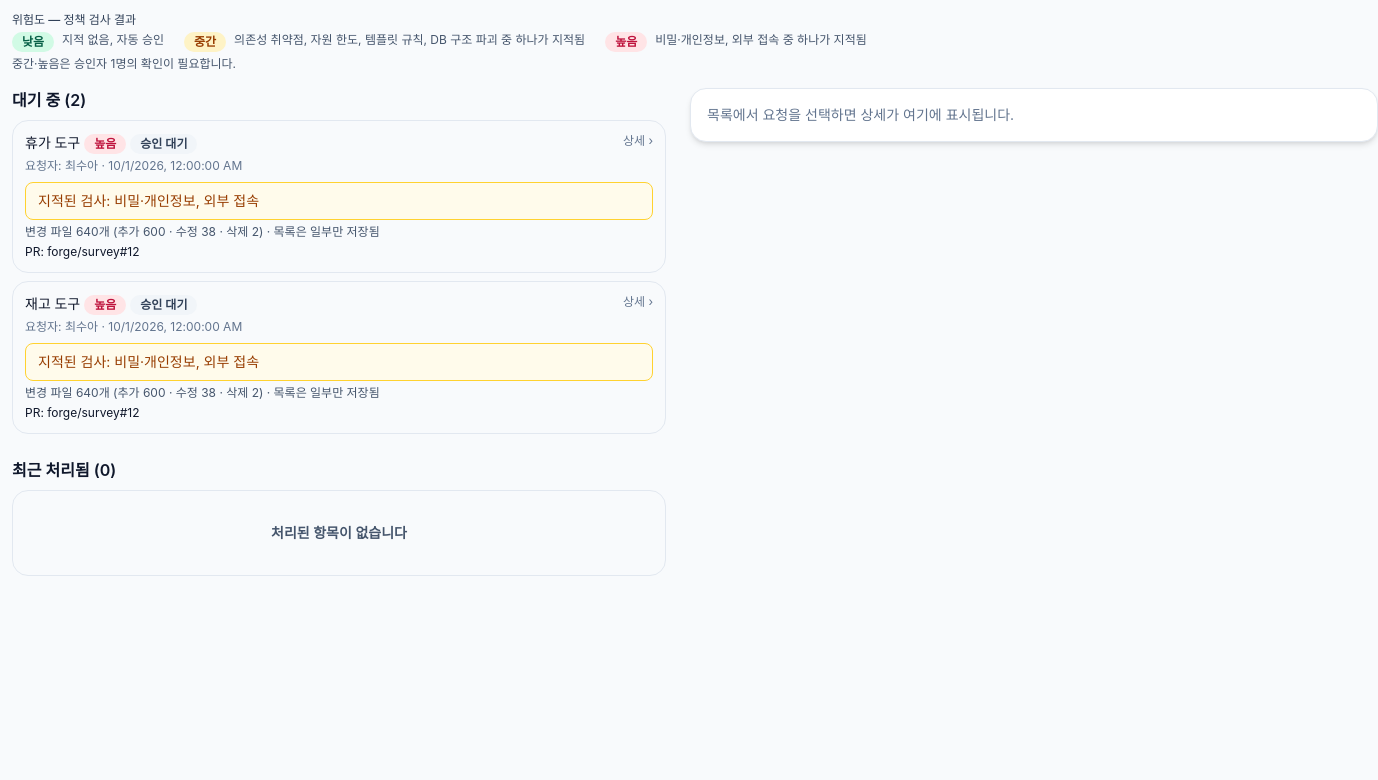
Test: the tabs › switches by click and mounts only the chosen panel
Click the list item with aria-label "휴가 도구 요청 상세 보기" at (339, 196), box x1=12 y1=120 x2=666 y2=273
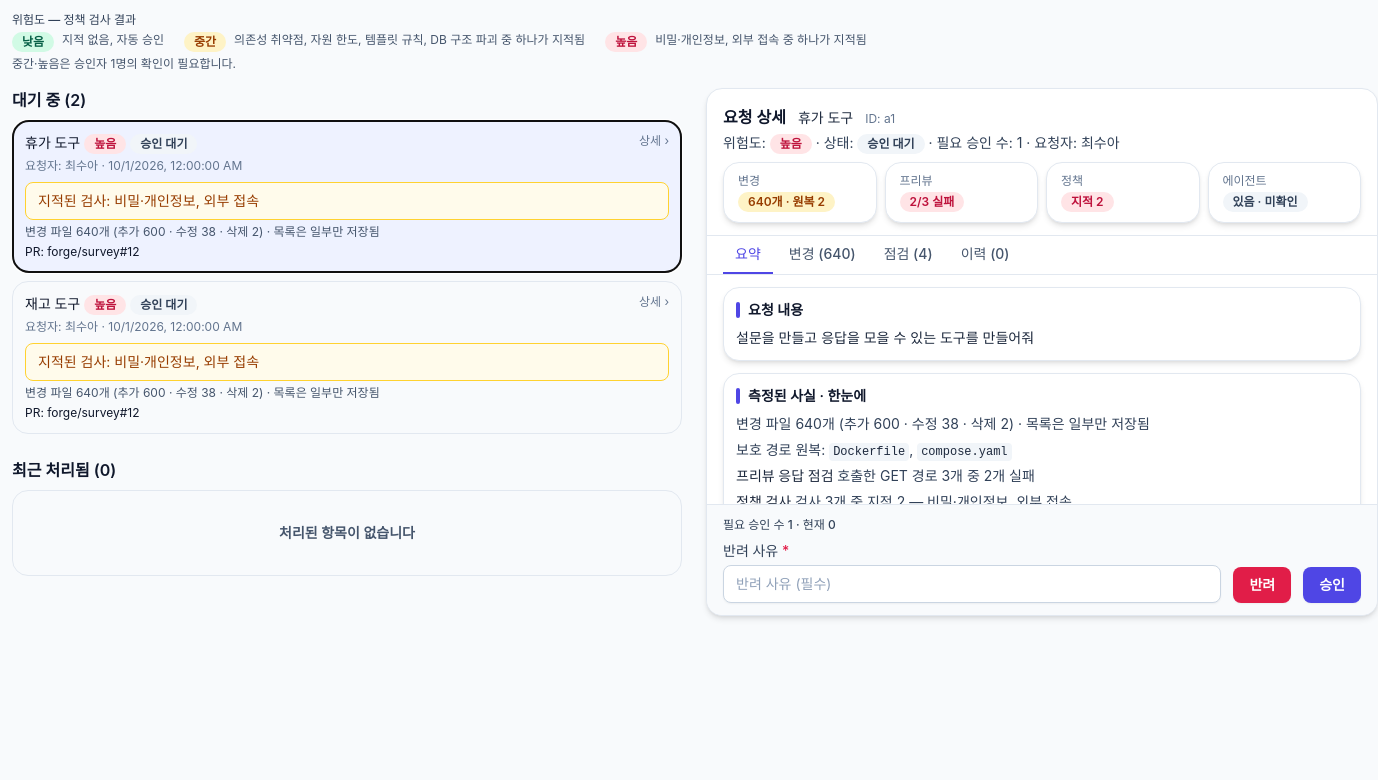
Click the tab "변경 (640)" at (822, 255), box x1=777 y1=236 x2=868 y2=274
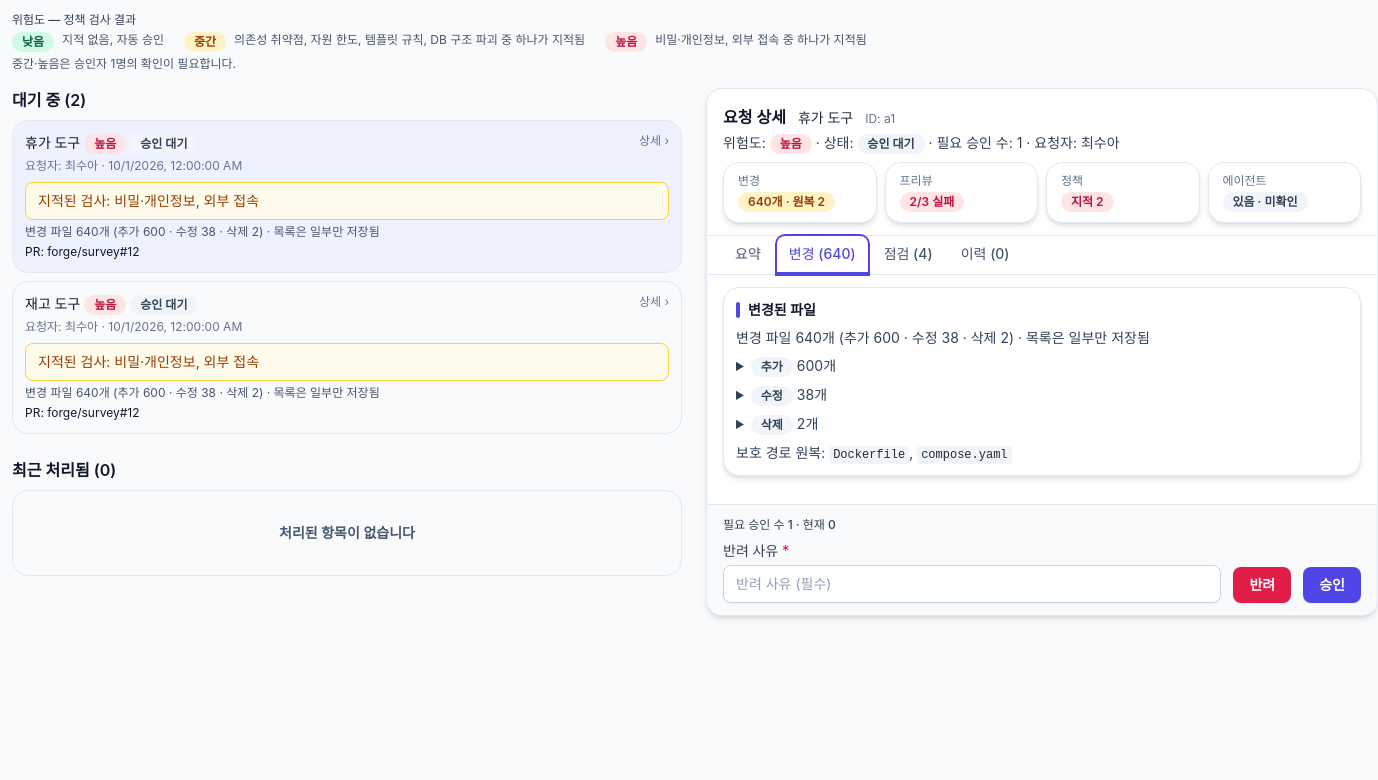
Now the number of panels is 1, box x1=723 y1=287 x2=1361 y2=476
Now the heading "변경된 파일" is shown, box x1=736 y1=301 x2=816 y2=318
Now the heading "요청 내용" is gone
Click the tab "이력 (0)" at (985, 255), box x1=949 y1=236 x2=1022 y2=274
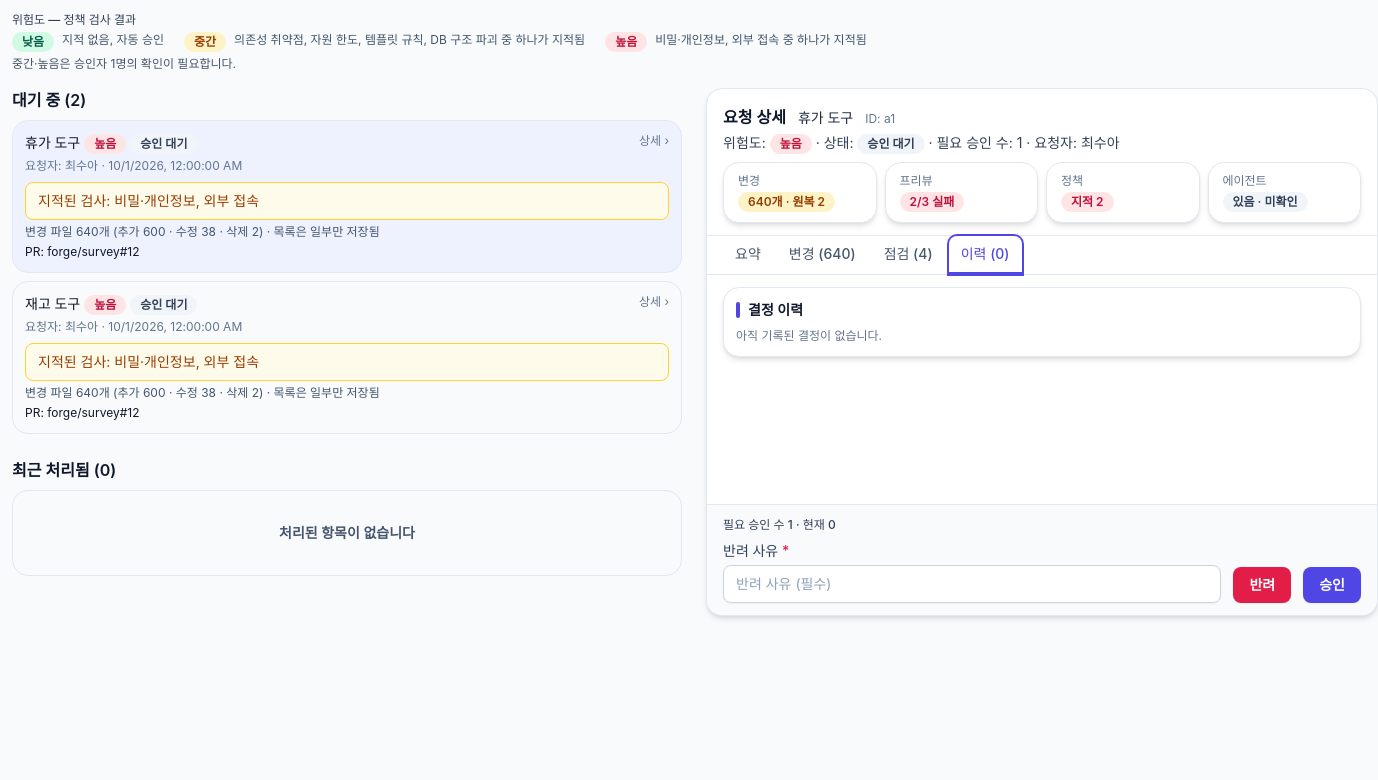
Now the heading "결정 이력" is shown, box x1=736 y1=301 x2=803 y2=318
Now the number of panels is 1, box x1=723 y1=287 x2=1361 y2=357
